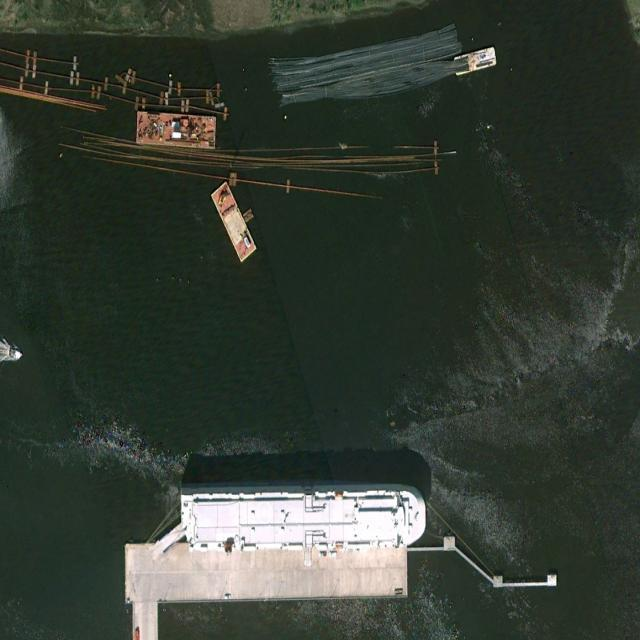RoRo: (180, 484, 426, 547)
